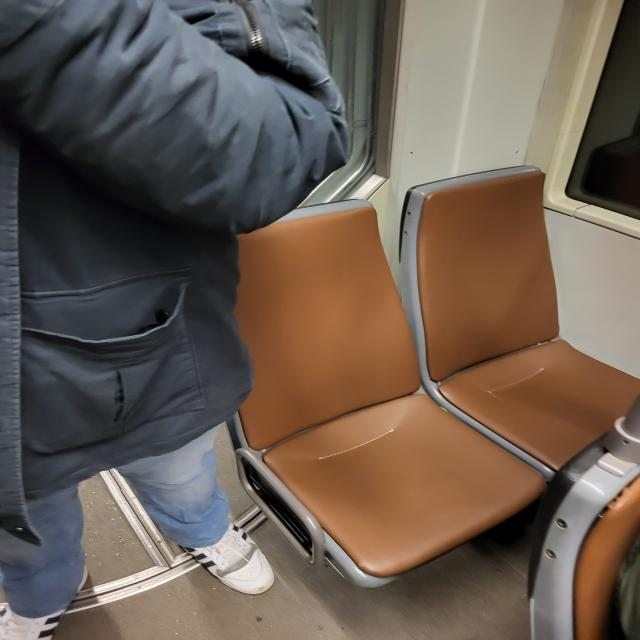empty-seat-frontal: (230, 204, 556, 586), (395, 164, 639, 473)
